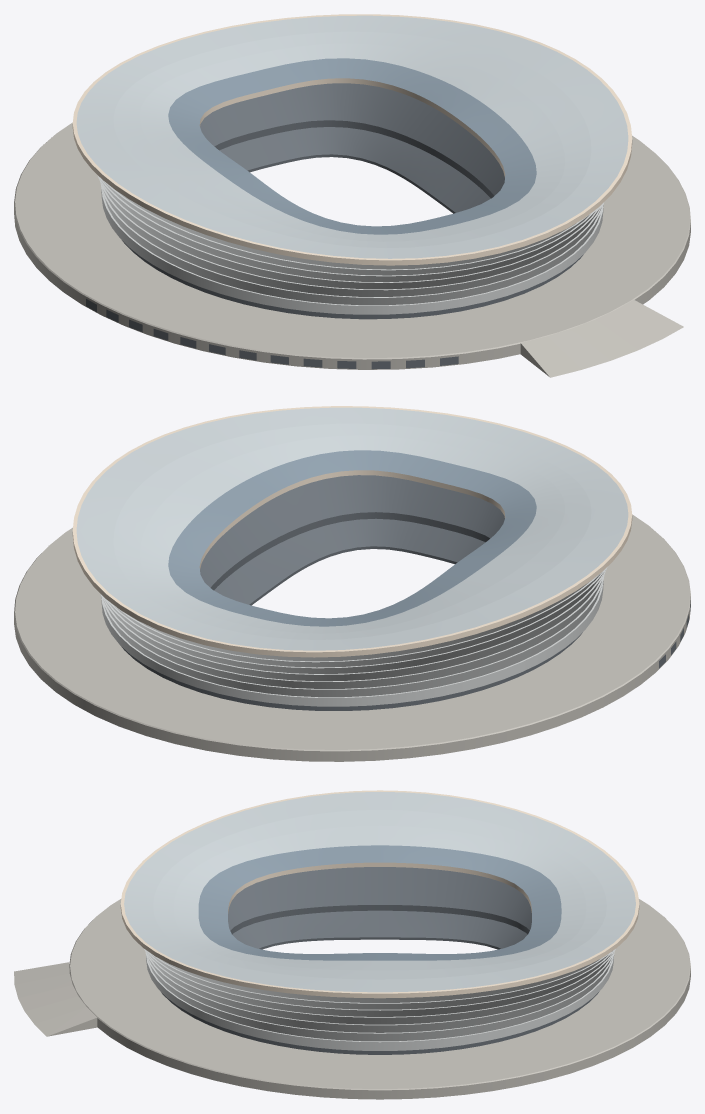
The model's file is cpt-cape-town-stadium.glb.
The picture shows the model from 3 angles, top to bottom: view 1: azimuth 30°, elevation 25°; view 2: azimuth 150°, elevation 25°; view 3: azimuth 270°, elevation 25°; orthographic projection. The views are drawn at different scales.
Parts seen in each view (by area): view 1: Cape Town Stadium; view 2: Cape Town Stadium; view 3: Cape Town Stadium.
Part boxes in pixels (x1,y1,x2,y2): Cape Town Stadium: (14, 14, 690, 377); Cape Town Stadium: (14, 406, 690, 761); Cape Town Stadium: (14, 790, 690, 1099).
Size of the model in its own units: 317 by 50.3 by 367.
